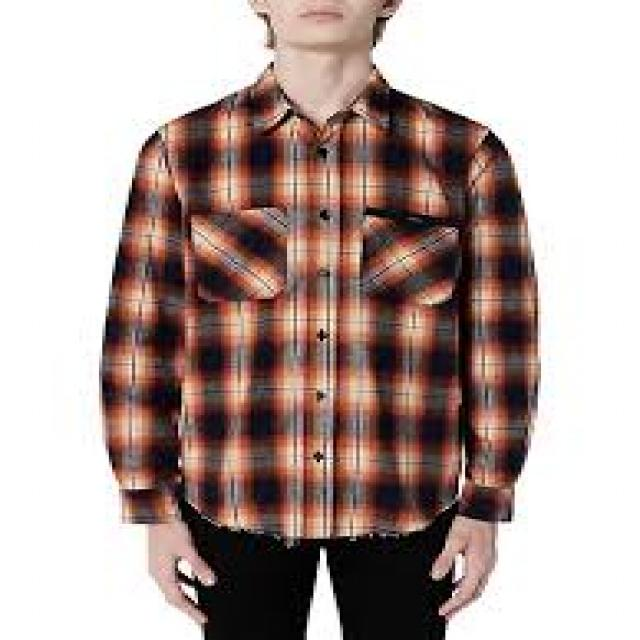plaid: (96, 50, 550, 538)
